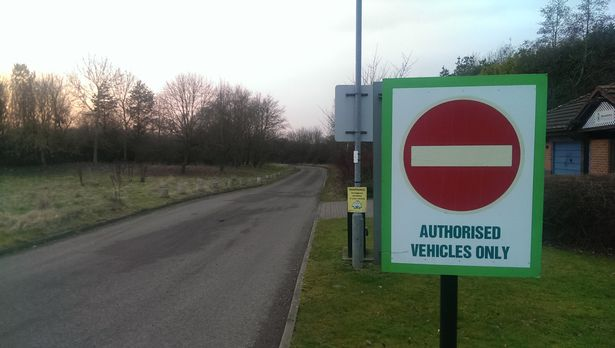No_entry: (402, 98, 523, 213)
